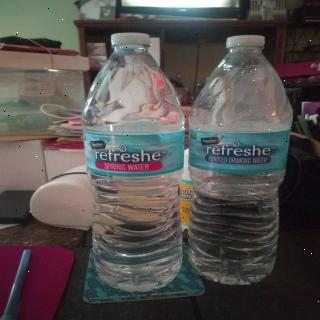Plastic-bottle: (78, 30, 191, 296), (182, 28, 296, 291)
